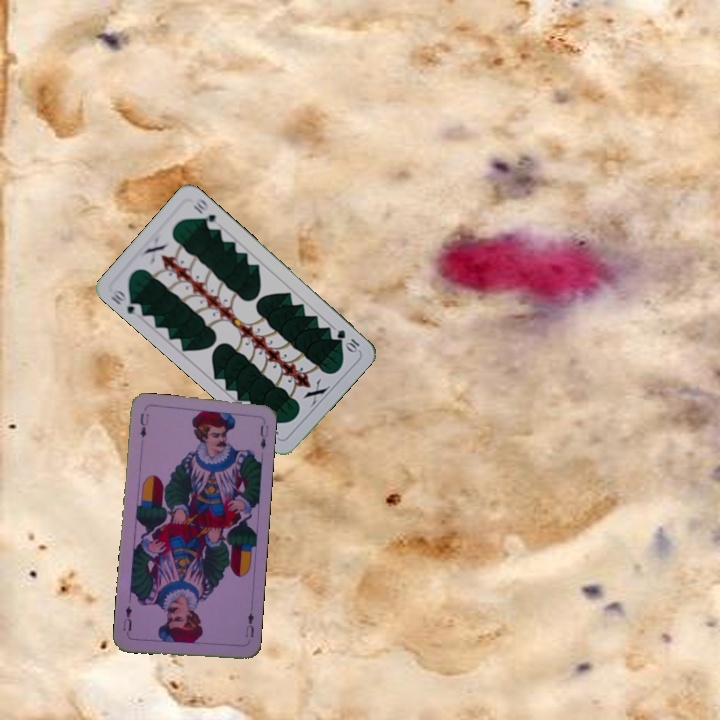EU: (136, 409, 151, 440), (242, 609, 256, 640)
G10: (106, 285, 145, 317), (333, 325, 362, 355)
